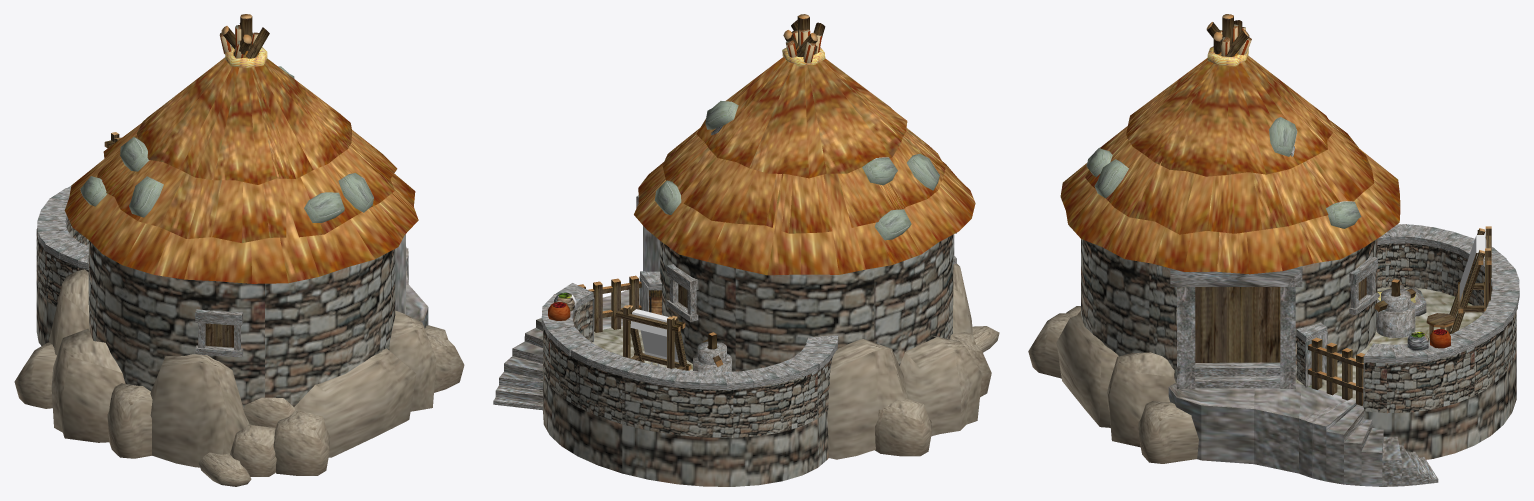
The model's file is lusi_new_house_3.dae.
3 views of the same model, side by side, from view 1: azimuth 30°, elevation 25°; view 2: azimuth 150°, elevation 25°; view 3: azimuth 270°, elevation 25° (orthographic). The views are drawn at different scales.
Parts seen in each view (by area): view 1: lusi_house_3; view 2: lusi_house_3; view 3: lusi_house_3.
Boxes of the visible parts, x1,y1,x2,y2 form: lusi_house_3: (14, 14, 464, 486); lusi_house_3: (493, 14, 999, 486); lusi_house_3: (1028, 14, 1519, 486).
Size of the model in its own units: 12.63 by 13.62 by 11.18.
